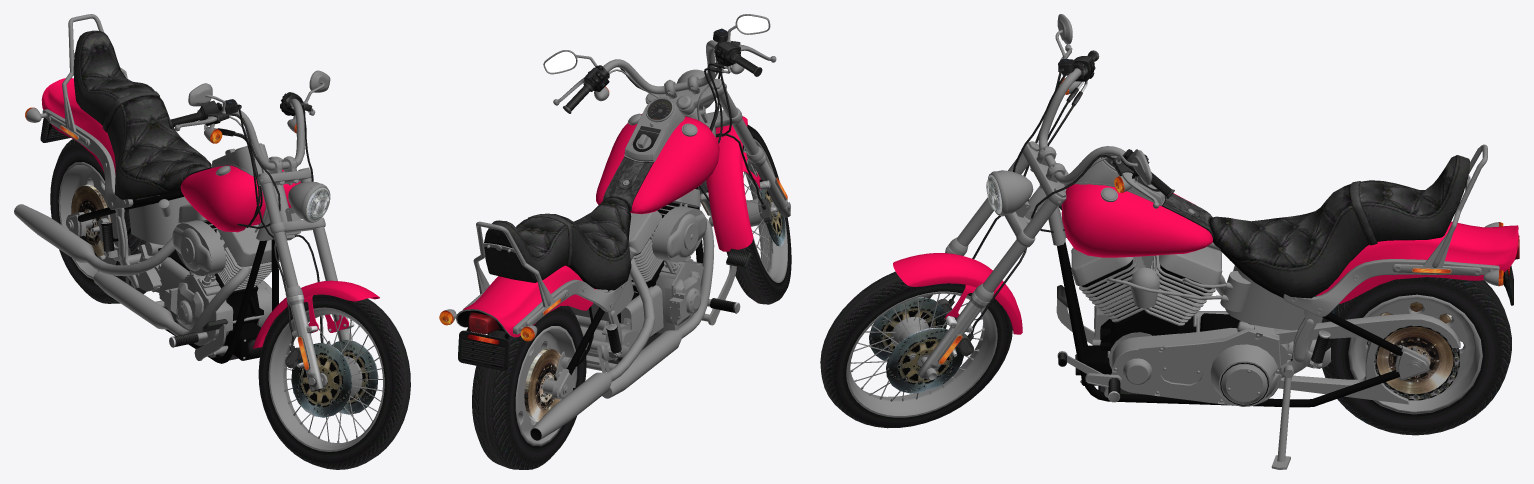
The model's file is harley-davidson.glb.
3 views of the same model, side by side, from view 1: azimuth 30°, elevation 25°; view 2: azimuth 150°, elevation 25°; view 3: azimuth 270°, elevation 25° (orthographic). The views are drawn at different scales.
Parts seen in each view (by area): view 1: Object_9, Object_12, Object_17, Object_6, Object_7, Object_3, Object_14, Object_15, Object_16, Object_5, Object_10, Object_11; view 2: Object_9, Object_6, Object_17, Object_12, Object_14, Object_15, Object_7, Object_16, Object_2, Object_3, Object_11, Object_4 (+3 smaller); view 3: Object_9, Object_17, Object_6, Object_12, Object_7, Object_3, Object_15, Object_14, Object_5, Object_4, Object_16.
Boxes of the visible parts, x1,y1,x2,y2 form: Object_9: [14, 14, 384, 451]; Object_12: [73, 30, 211, 199]; Object_17: [50, 139, 410, 469]; Object_6: [41, 78, 379, 348]; Object_7: [71, 184, 378, 417]; Object_3: [47, 123, 278, 363]; Object_14: [40, 92, 331, 368]; Object_15: [101, 102, 313, 346]; Object_16: [287, 294, 354, 391]; Object_5: [113, 199, 263, 326]; Object_10: [306, 187, 329, 221]; Object_11: [25, 107, 308, 369]; Object_9: [444, 14, 790, 446]; Object_6: [463, 114, 760, 337]; Object_17: [472, 124, 791, 469]; Object_12: [484, 197, 631, 290]; Object_14: [458, 28, 776, 370]; Object_15: [563, 41, 762, 353]; Object_7: [524, 189, 785, 421]; Object_16: [651, 109, 790, 218]; Object_2: [545, 15, 768, 72]; Object_3: [466, 187, 703, 390]; Object_11: [439, 68, 787, 344]; Object_4: [457, 202, 696, 440]; Object_9: [846, 14, 1518, 469]; Object_17: [820, 271, 1511, 435]; Object_6: [893, 184, 1518, 334]; Object_12: [1210, 155, 1469, 298]; Object_7: [869, 297, 1453, 393]; Object_3: [1057, 242, 1509, 407]; Object_15: [1013, 50, 1459, 400]; Object_14: [918, 56, 1513, 402]; Object_5: [1100, 296, 1316, 351]; Object_4: [1081, 259, 1268, 405]; Object_16: [917, 161, 1112, 379].
Size of what is drawn, in the model's own units: 0.9383 by 1.59 by 2.66.
16 materials, 10 textured.
